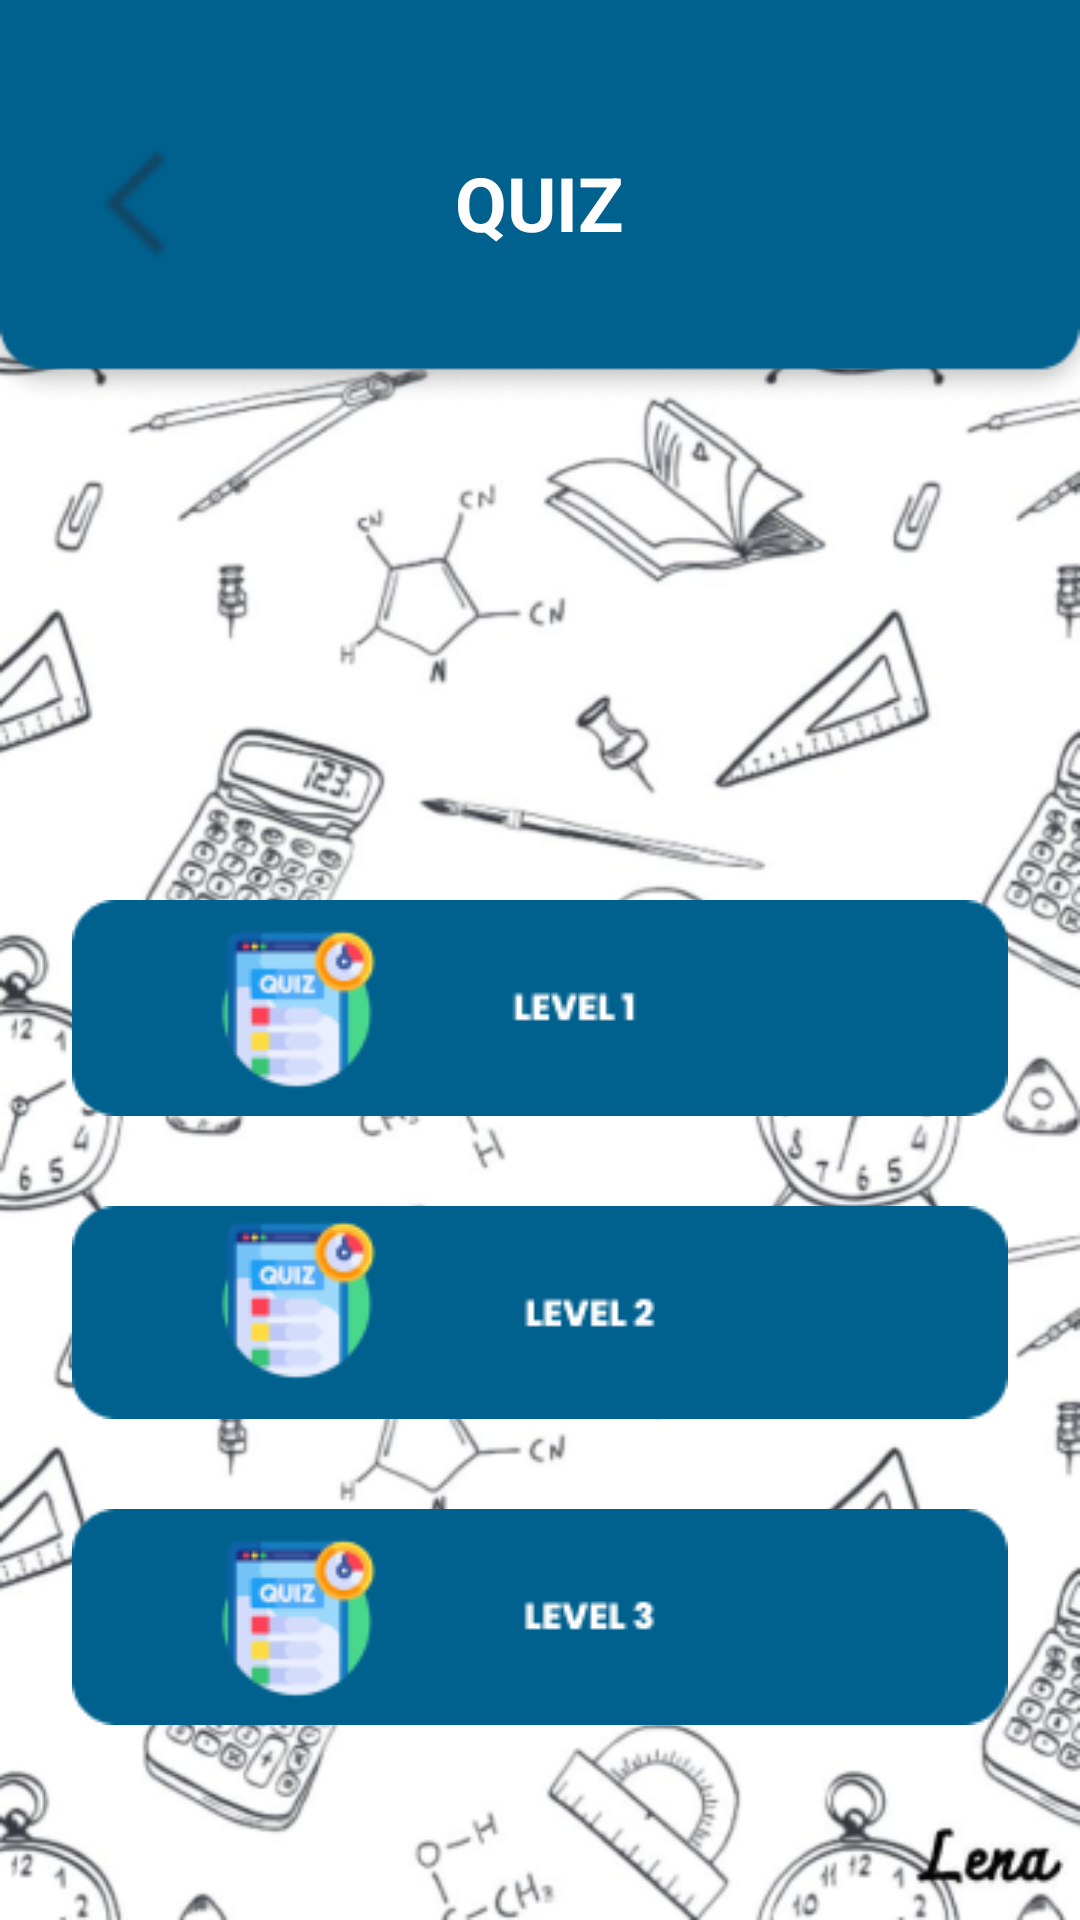

Where icons sit on this 1080*1920 app screen, as (x1, y1, x2, y2):
kembali: (108, 154, 163, 252)
